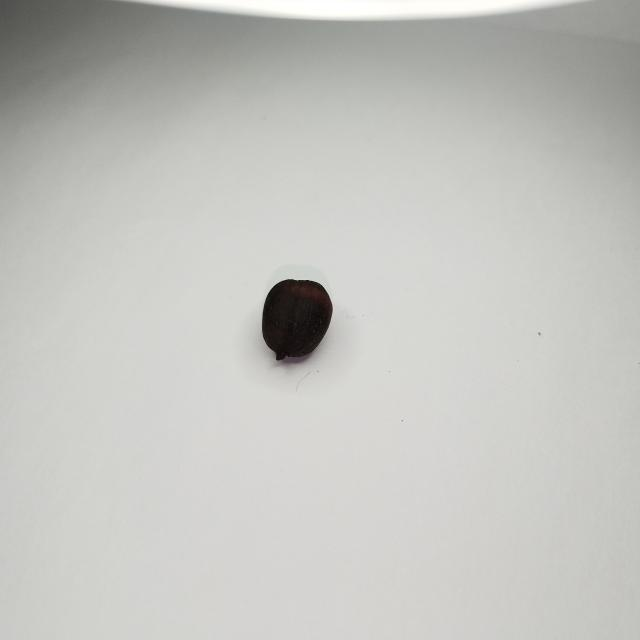Danado: (261, 276, 333, 361)
